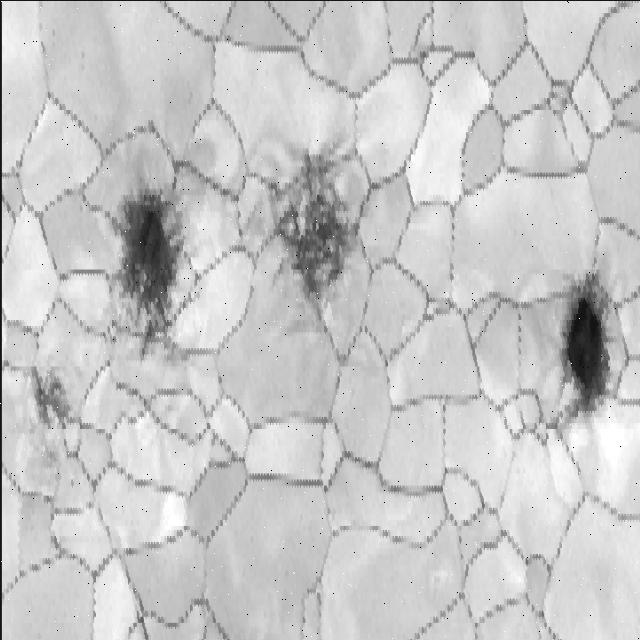good_void: (252, 133, 360, 340), (113, 154, 198, 350), (552, 249, 616, 449), (21, 353, 77, 441), (68, 474, 76, 492)
